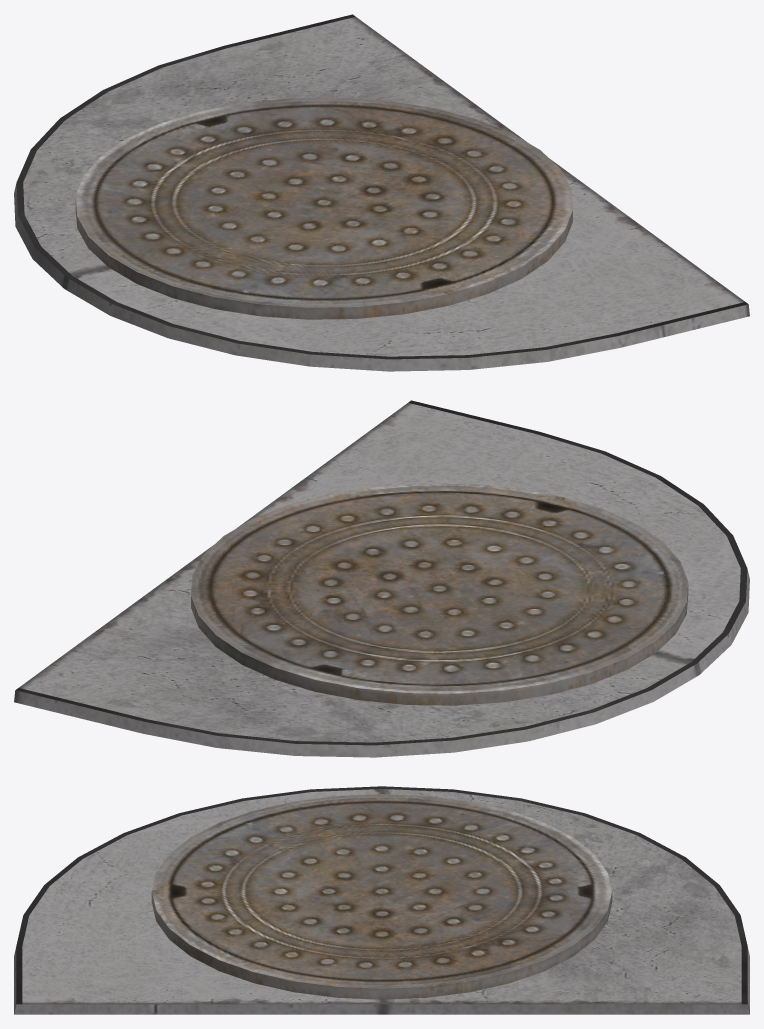
The model's file is MB_Sewer_Hatch_S_02.fbx.
3 renders of one model, top to bottom at view 1: azimuth 30°, elevation 25°; view 2: azimuth 150°, elevation 25°; view 3: azimuth 270°, elevation 25°, orthographic. The views are drawn at different scales.
Parts seen in each view (by area): view 1: MB_Sewer_Hatch_S_02_LOD0; view 2: MB_Sewer_Hatch_S_02_LOD0; view 3: MB_Sewer_Hatch_S_02_LOD0.
Part boxes in pixels (x1,y1,x2,y2): MB_Sewer_Hatch_S_02_LOD0: (14, 14, 749, 371); MB_Sewer_Hatch_S_02_LOD0: (14, 400, 749, 757); MB_Sewer_Hatch_S_02_LOD0: (14, 786, 749, 1014).
Size of what is drawn, in the model's own units: 71.7 by 3.24 by 102.
